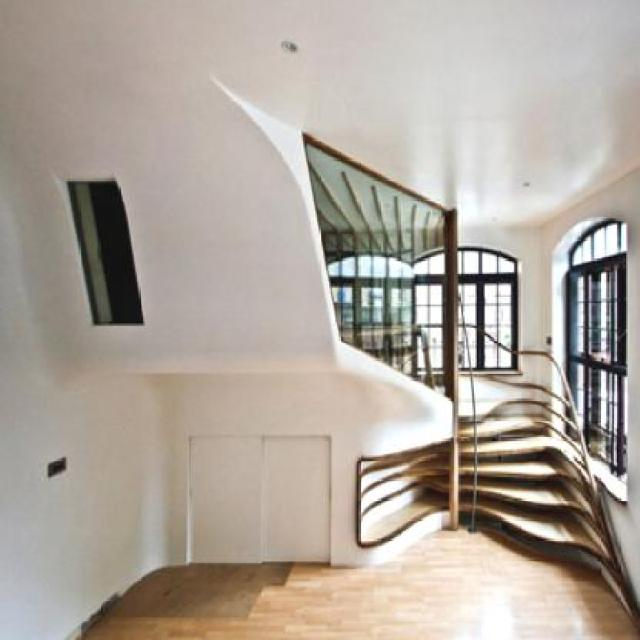stair: (377, 316, 638, 598)
